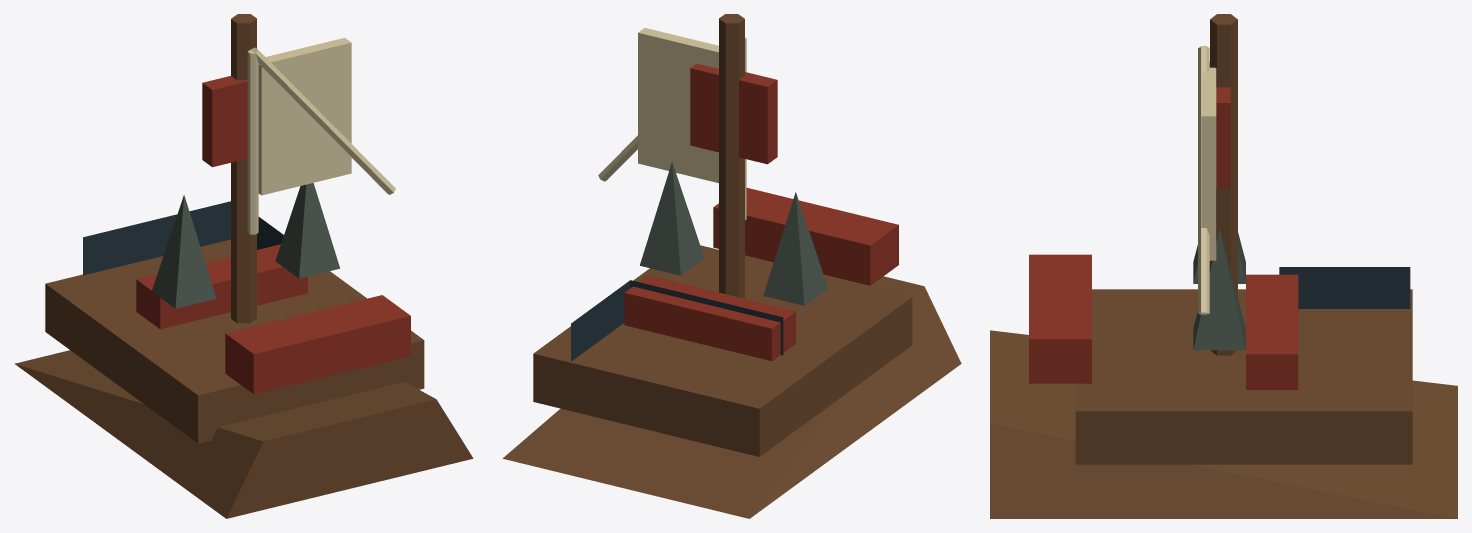
The model's file is ship.obj.
3 renders of one model, left to right at view 1: azimuth 30°, elevation 25°; view 2: azimuth 150°, elevation 25°; view 3: azimuth 270°, elevation 25°, orthographic. The views are drawn at different scales.
Visible parts, largest first — view 1: ship; view 2: ship; view 3: ship.
Part boxes in pixels (x1,y1,x2,y2): ship: (14, 14, 473, 518); ship: (503, 14, 961, 518); ship: (990, 14, 1457, 518).
Bounding box in the file's own units: 1.54 × 2.18 × 2.14.
